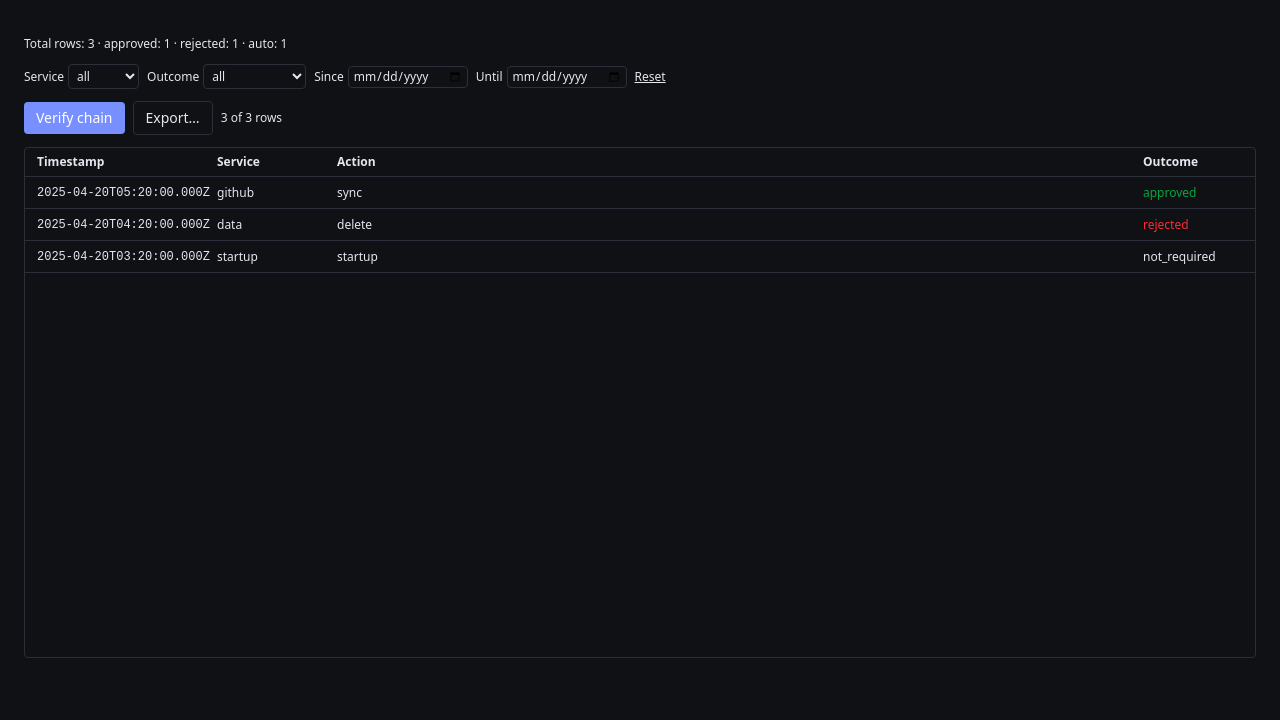
Test: AuditPanel › Verify chain success surfaces a green toast
Expected: the number of list items with test id "audit-row" is 3, [25,177,1255,209]; [25,209,1255,241]; [25,241,1255,273]
Click the button "Verify chain". click: (74, 118)
box: [24,102,124,134]
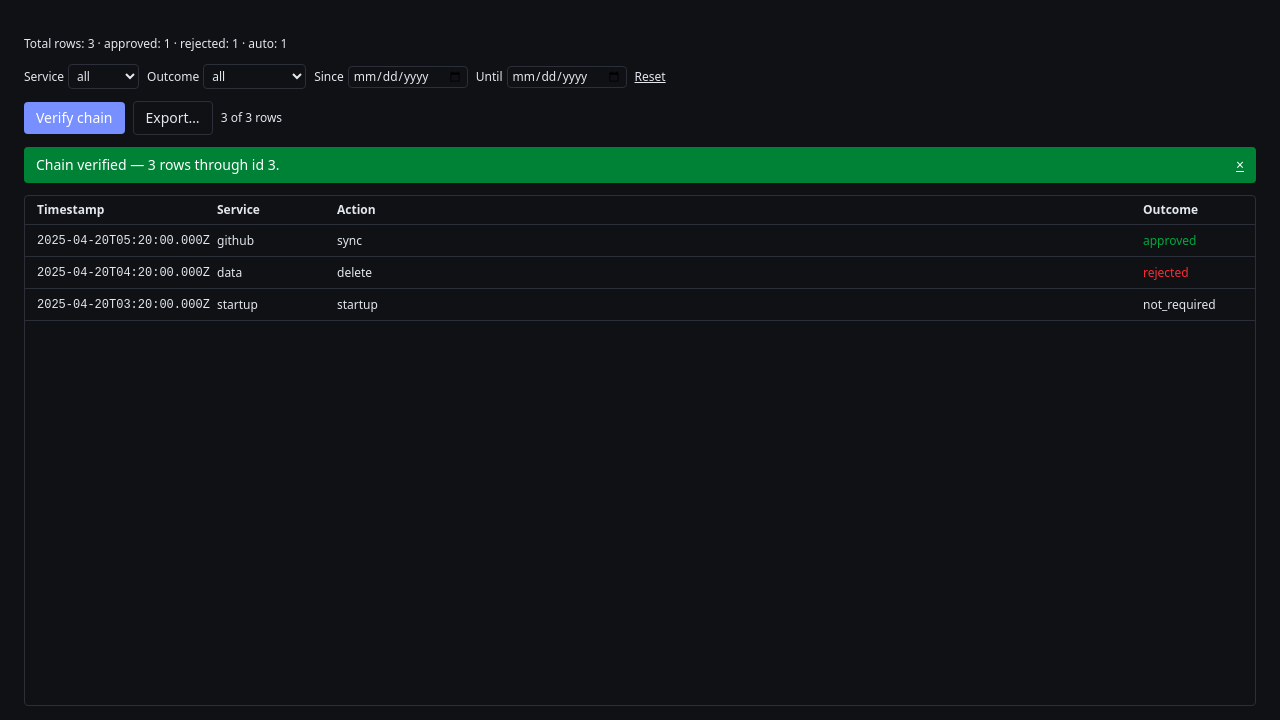
Expected: the text with test id "audit-toast-text" shows "Chain verified", [36,155,279,174]
